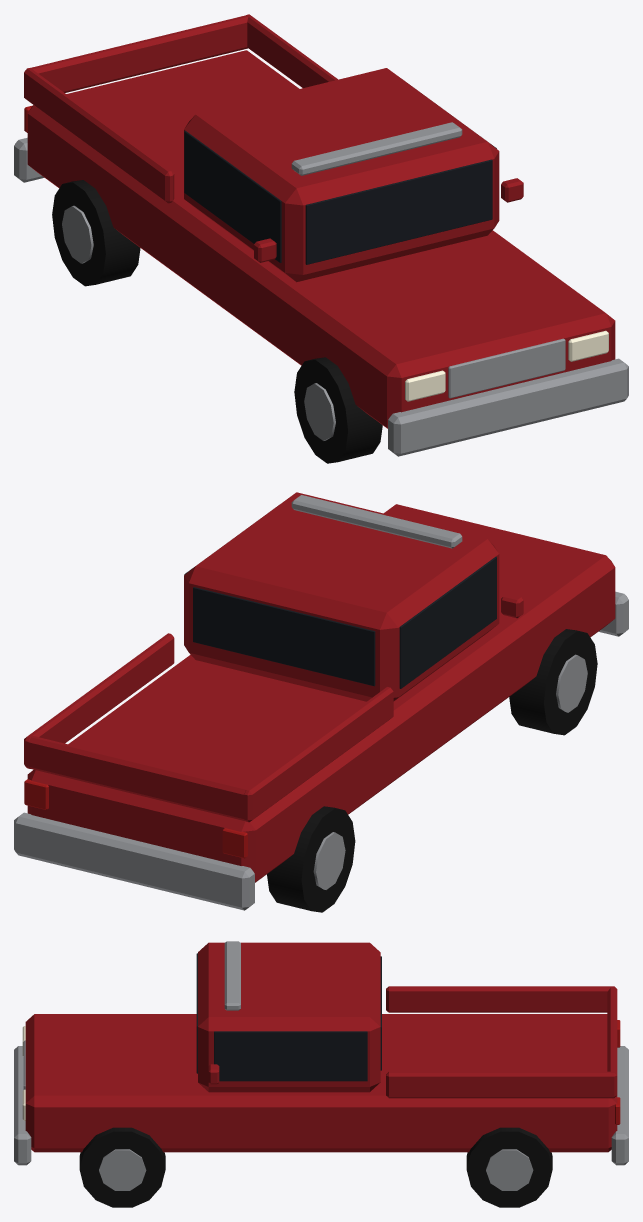
The model's file is pickup_red.dae.
3 renders of one model, top to bottom at view 1: azimuth 30°, elevation 25°; view 2: azimuth 150°, elevation 25°; view 3: azimuth 270°, elevation 25°, orthographic. The views are drawn at different scales.
Visible parts, largest first — view 1: marker; view 2: marker; view 3: marker.
Part boxes in pixels (x1,y1,x2,y2): marker: (14, 14, 628, 463); marker: (14, 492, 628, 912); marker: (14, 941, 628, 1207).
Size of the model in its own units: 2.28 by 5.72 by 1.92.
Materials: 1 (1 with a texture image).
